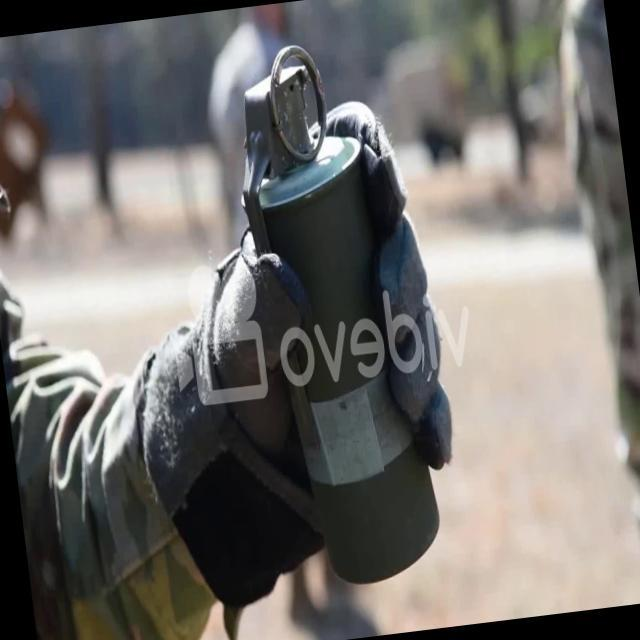grenade: (220, 31, 455, 603)
